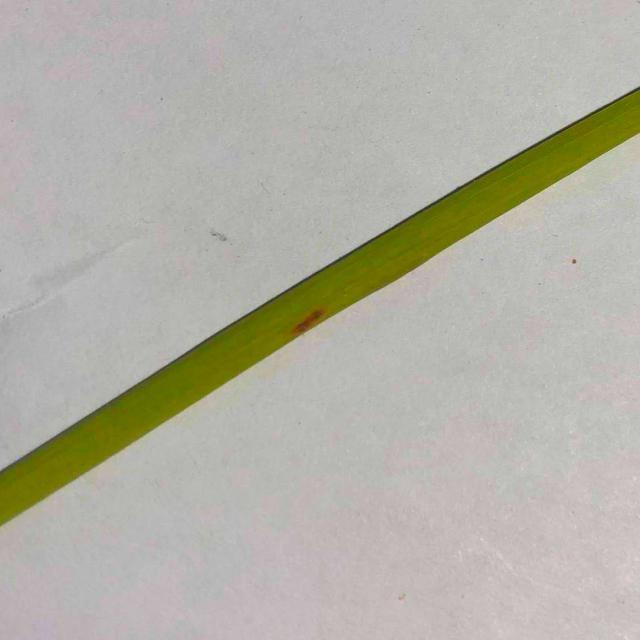brownspots: (279, 299, 335, 340)
